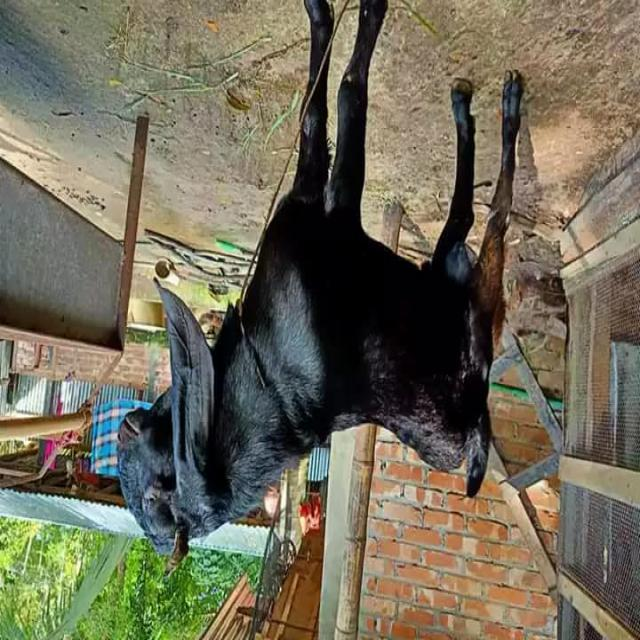Goat: (115, 2, 524, 579)
